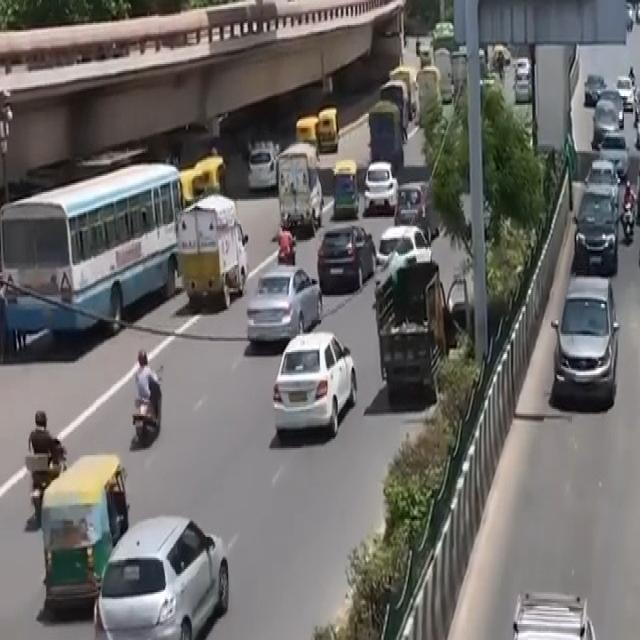bus: (0, 150, 186, 373)
car: (78, 499, 241, 640), (261, 320, 364, 452), (544, 272, 626, 416), (469, 581, 627, 640), (238, 252, 323, 358), (569, 183, 624, 276), (636, 185, 640, 275), (638, 300, 640, 441)
motorbike: (121, 343, 172, 457)
rickshaw: (22, 446, 138, 630)
